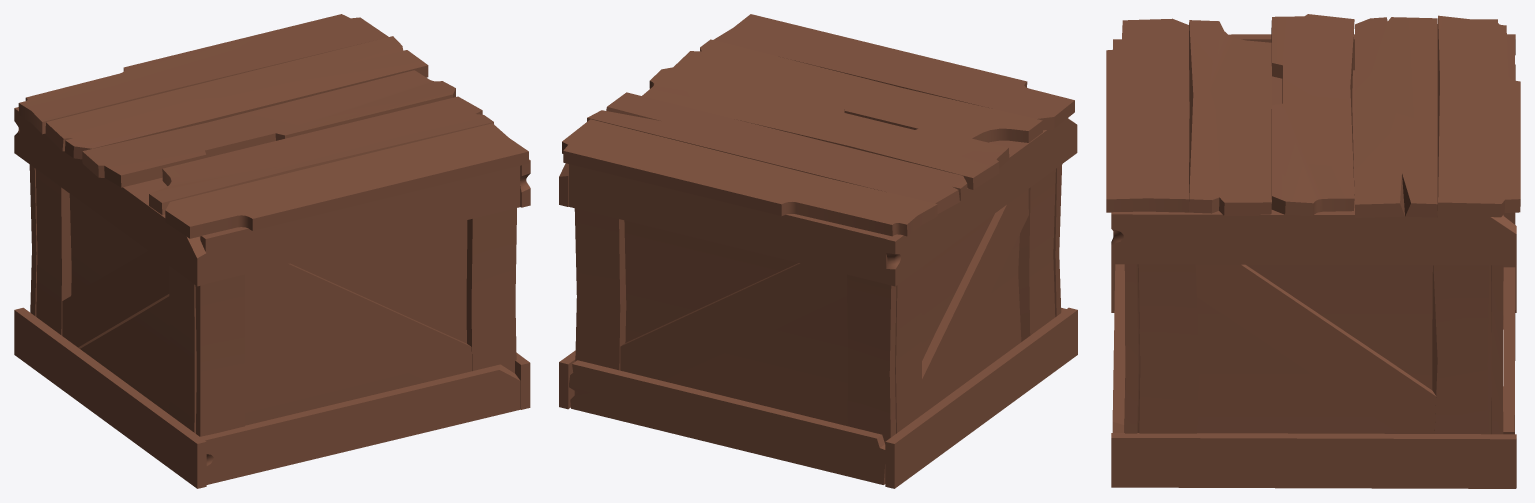
The model's file is woodbox.fbx.
3 renders of one model, left to right at view 1: azimuth 30°, elevation 25°; view 2: azimuth 150°, elevation 25°; view 3: azimuth 270°, elevation 25°, orthographic. The views are drawn at different scales.
Visible parts, largest first — view 1: box_low, plank.005_low, Cube.018_low, plank.002_low, planche_low, plank.003_low, plank.001_low, plank.004_low, Cube.009_low, Cube.006_low, plank.006_low, Cube.010_low (+1 smaller); view 2: box_low, plank.001_low, Cube.007_low, stars_low, plank.003_low, plank.002_low, plank.004_low, plank.005_low, Cube.008_low, Cube.006_low, plank.006_low, Cube.010_low (+1 smaller); view 3: box_low, voiture_low, plank.008_low, plank.002_low, plank.003_low, plank.001_low, plank.005_low, plank.004_low, Cube.012_low, Cube.007_low, Cube.018_low, fond_low (+1 smaller).
Boxes of the visible parts, box(x1,y1,x2,y2) form: box_low: box(29, 164, 516, 436); plank.005_low: box(165, 123, 528, 238); Cube.018_low: box(200, 364, 520, 484); plank.002_low: box(45, 36, 428, 159); planche_low: box(200, 166, 520, 283); plank.003_low: box(82, 70, 455, 187); plank.001_low: box(18, 14, 388, 134); plank.004_low: box(149, 96, 493, 215); Cube.009_low: box(245, 263, 471, 381); Cube.006_low: box(14, 307, 206, 488); plank.006_low: box(14, 107, 206, 286); Cube.010_low: box(62, 251, 169, 348); box_low: box(574, 164, 1062, 443); plank.001_low: box(562, 119, 937, 236); Cube.007_low: box(569, 360, 885, 484); stars_low: box(569, 164, 890, 283); plank.003_low: box(642, 66, 1009, 189); plank.002_low: box(587, 92, 967, 213); plank.004_low: box(673, 39, 1042, 142); plank.005_low: box(713, 14, 1074, 130); Cube.008_low: box(620, 263, 847, 380); Cube.006_low: box(885, 307, 1077, 488); plank.006_low: box(886, 118, 1077, 286); Cube.010_low: box(922, 189, 1028, 413); box_low: box(1124, 264, 1503, 434); voiture_low: box(1111, 433, 1516, 488); plank.008_low: box(1111, 210, 1516, 265); plank.002_low: box(1355, 17, 1437, 217); plank.003_low: box(1271, 14, 1354, 216); plank.001_low: box(1437, 15, 1520, 217); plank.005_low: box(1106, 18, 1188, 212); plank.004_low: box(1188, 20, 1271, 215); Cube.012_low: box(1195, 264, 1436, 433); Cube.007_low: box(1503, 267, 1515, 434); Cube.018_low: box(1112, 264, 1125, 432); fond_low: box(1189, 70, 1503, 215).
Size of the model in its own units: 69.75 by 49.32 by 64.08.
